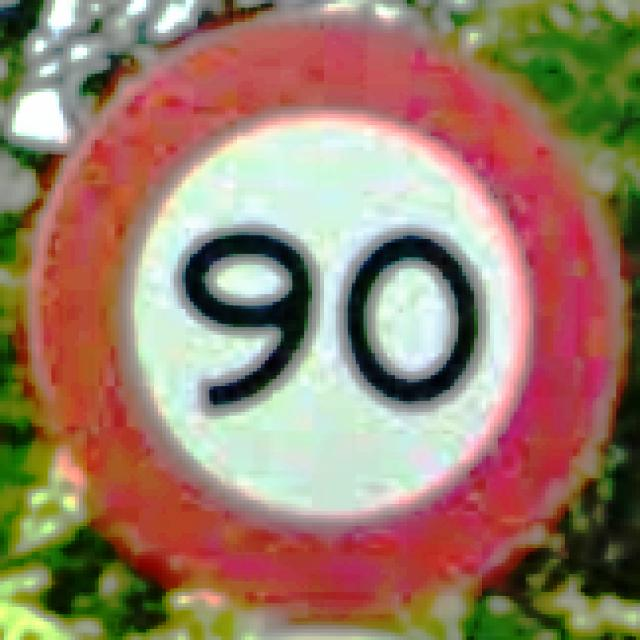max90: (20, 8, 628, 626)
